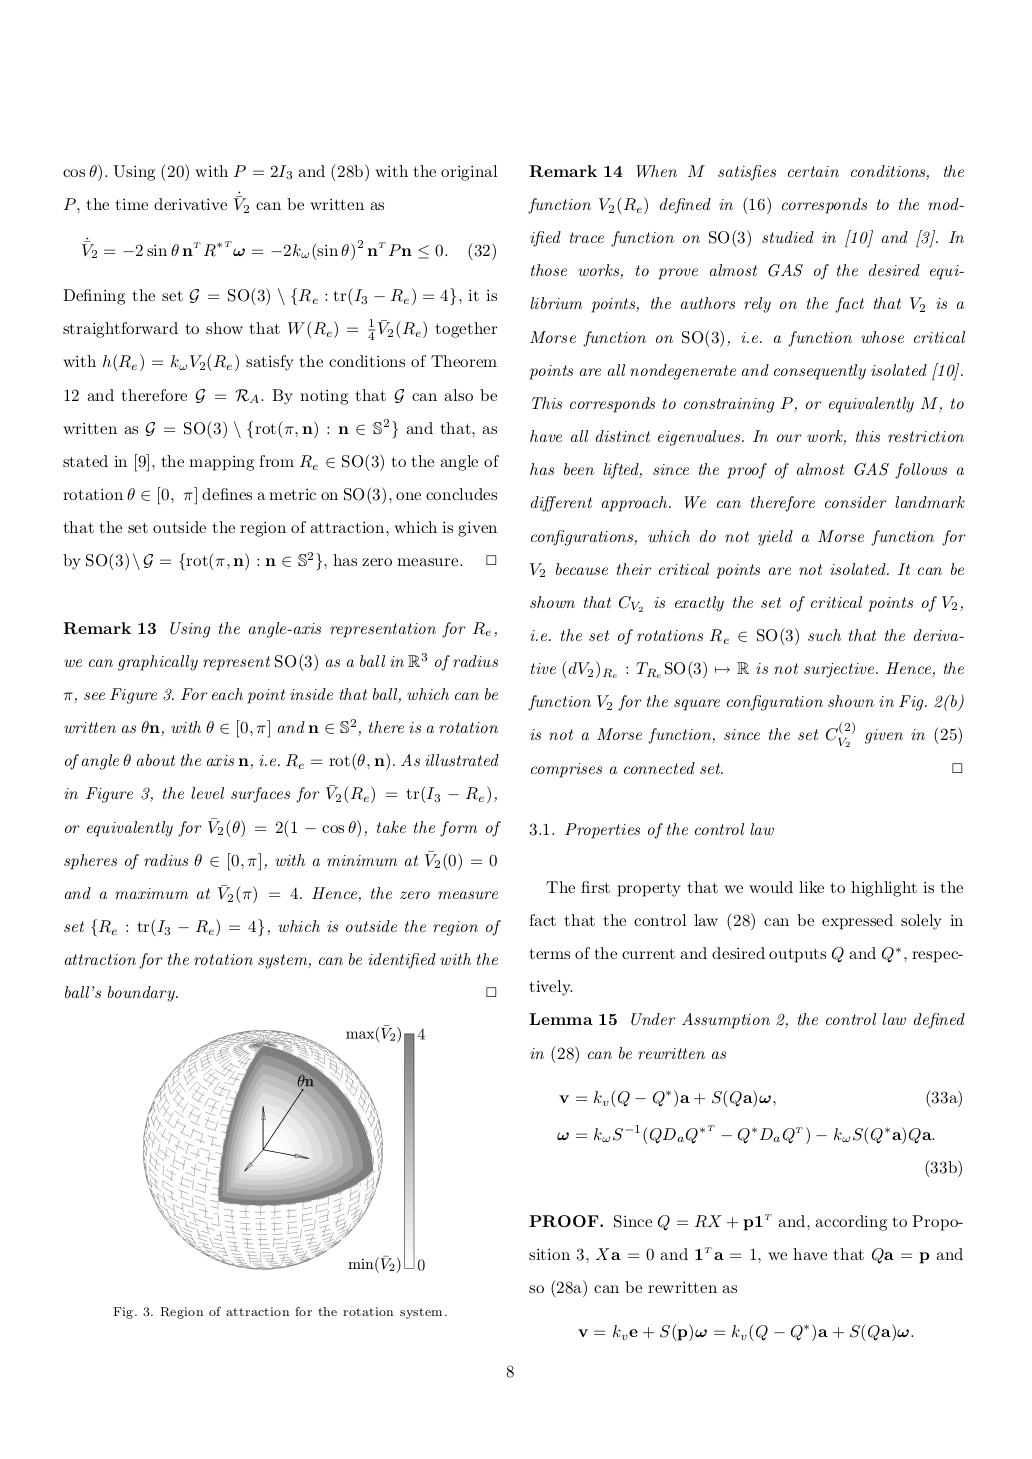figure: (143, 1024, 424, 1273)
formula: (82, 236, 495, 261), (557, 1124, 934, 1145), (558, 1090, 961, 1108), (579, 1323, 912, 1342)
